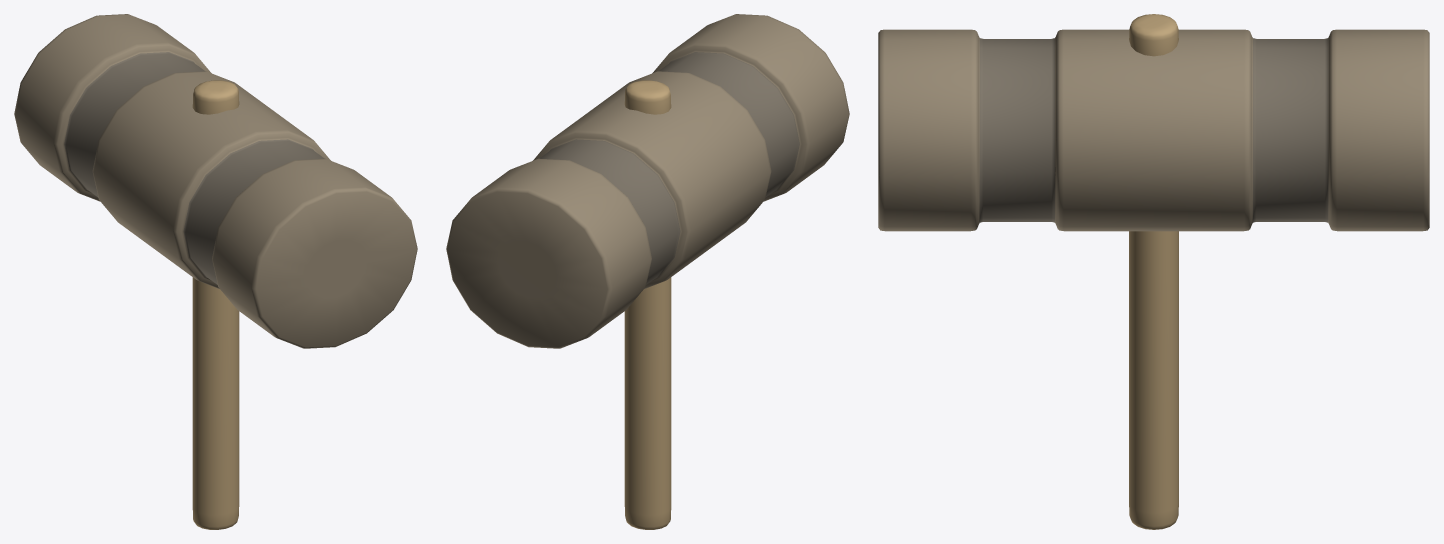
File: molot.fbx
3 renders of one model, left to right at view 1: azimuth 30°, elevation 25°; view 2: azimuth 150°, elevation 25°; view 3: azimuth 270°, elevation 25°, orthographic. The views are drawn at different scales.
Parts seen in each view (by area): view 1: Цилиндр.001; view 2: Цилиндр.001; view 3: Цилиндр.001.
Part boxes in pixels (box(x1,y1,x2,y2)): Цилиндр.001: box(14, 14, 417, 529); Цилиндр.001: box(446, 14, 849, 529); Цилиндр.001: box(878, 14, 1429, 529).
Size of the model in its own units: 11.89 by 30 by 30.
